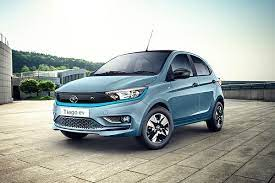Tiago: (51, 45, 226, 151)
